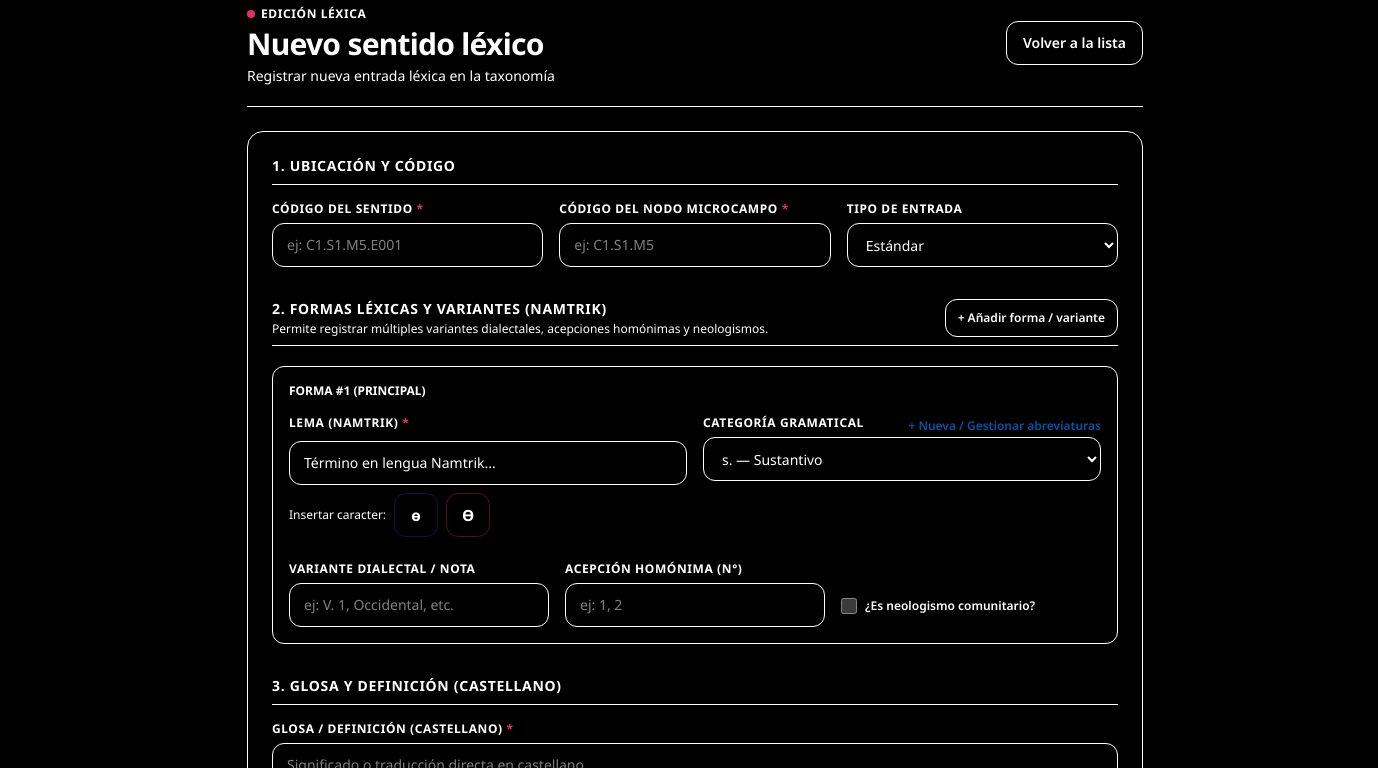
it: SentidoEditorPage (T-044, R-007, R-008, R-010, R-022) › en modo creación permite completar el formulario con CampoNamtrik y llama a useCreateSentido
The width and height of the screenshot is (1378, 768).
Expected: the heading "Nuevo sentido léxico" is shown, [247,26,555,62]
Type "C1.S1.M5.E001" into the field labelled "Código del sentido *" at (408, 245), box [272,223,543,267]
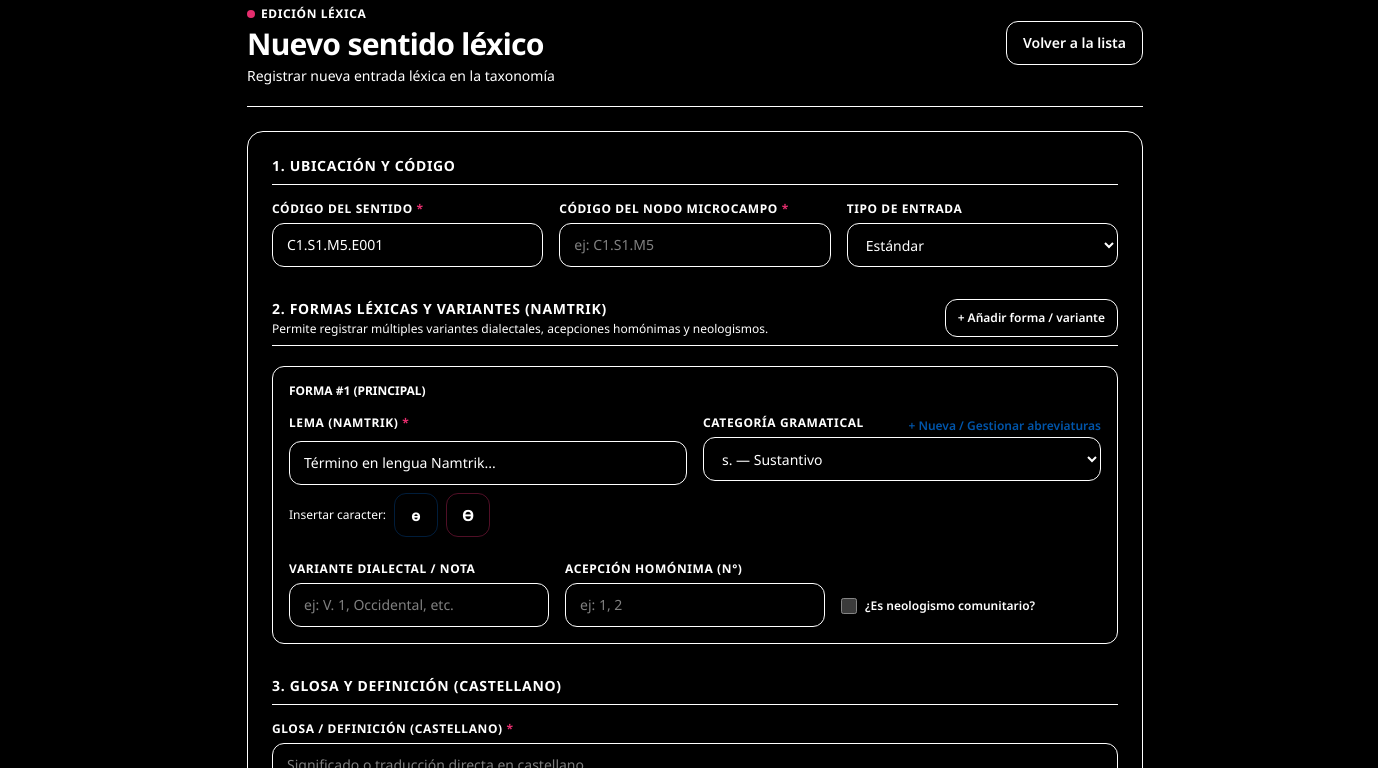
Type "C1.S1.M5" into the field labelled "Código del nodo microcampo *" at (695, 245), box [559,223,831,267]
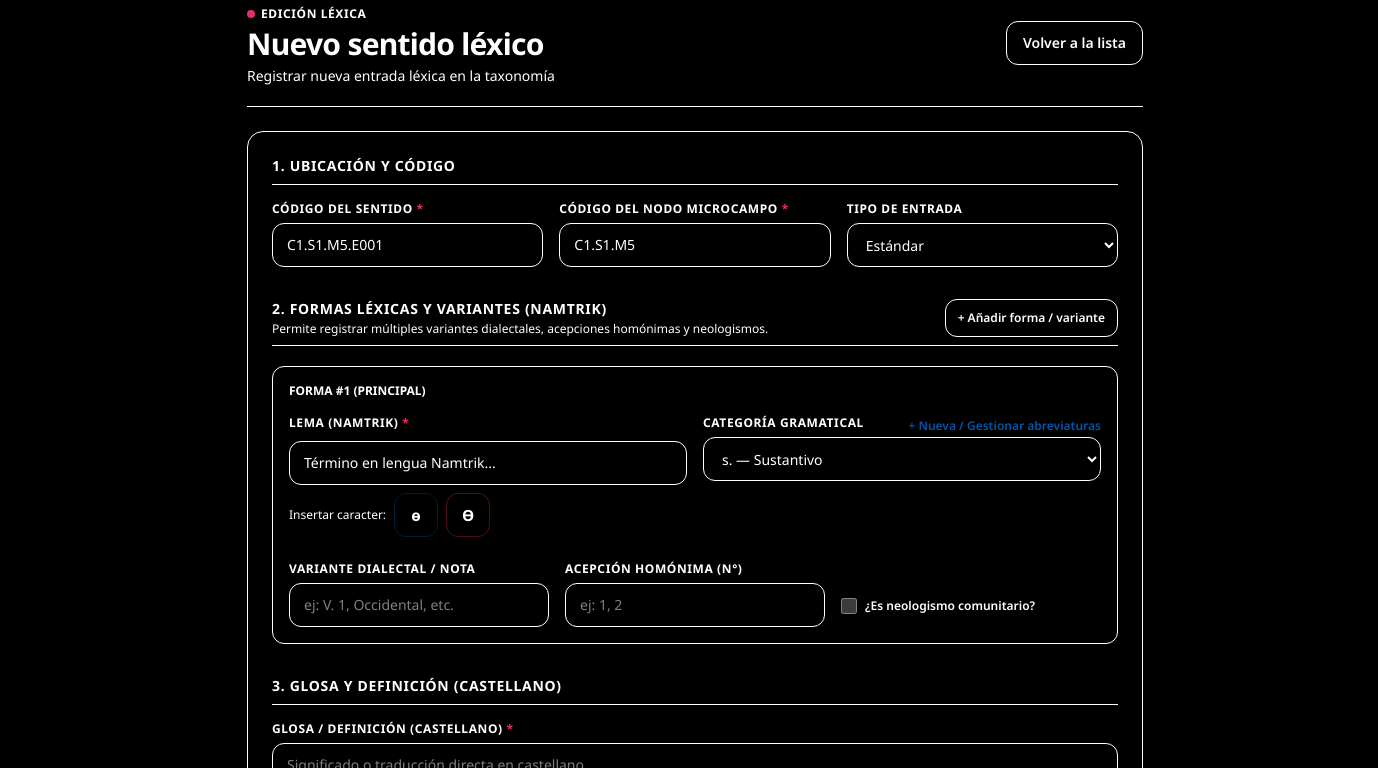
Type "kɵtɵ" into the field labelled "Lema (Namtrik) *" at (488, 463), box [289,441,687,485]
(page scrolled)
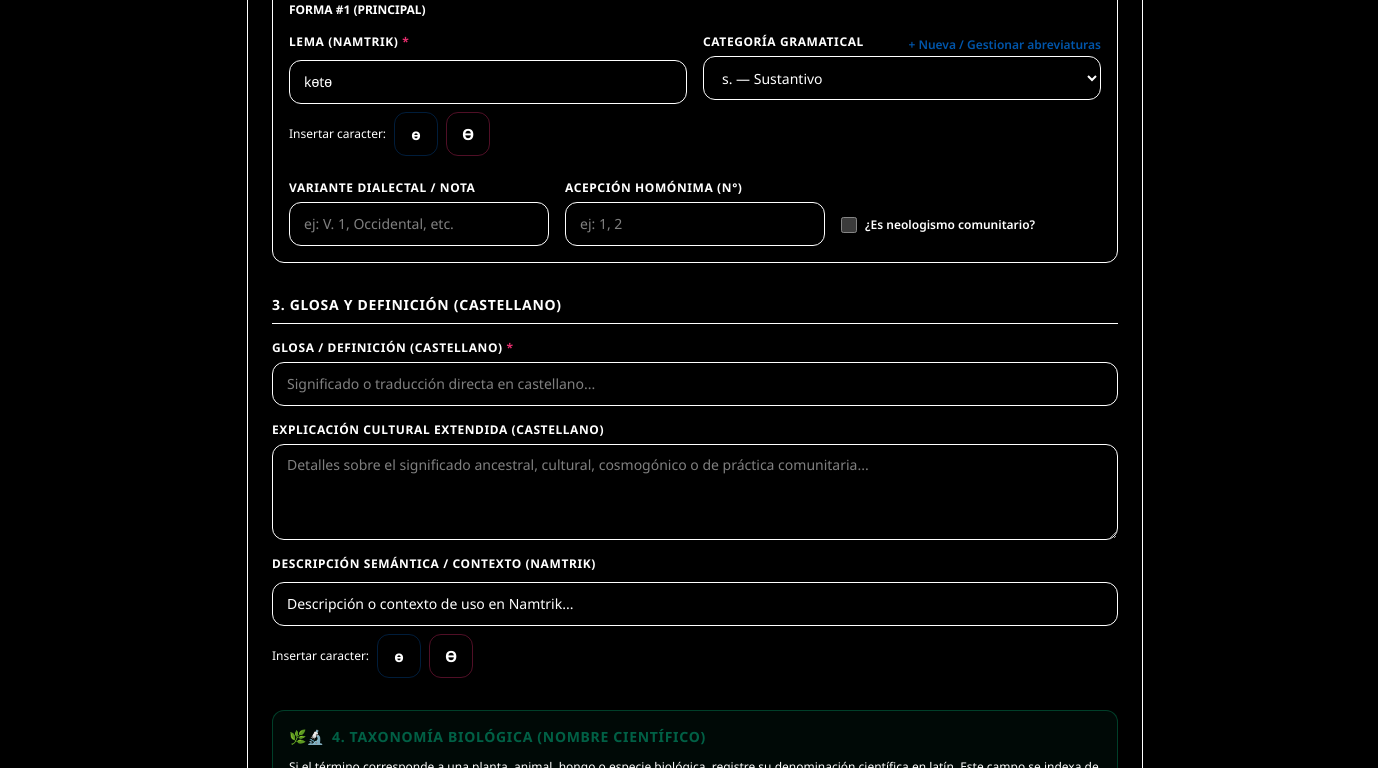
Type "casa tradicional" into the field labelled "Glosa / Definición (Castellano) *" at (695, 384), box [272,362,1118,406]
(page scrolled)
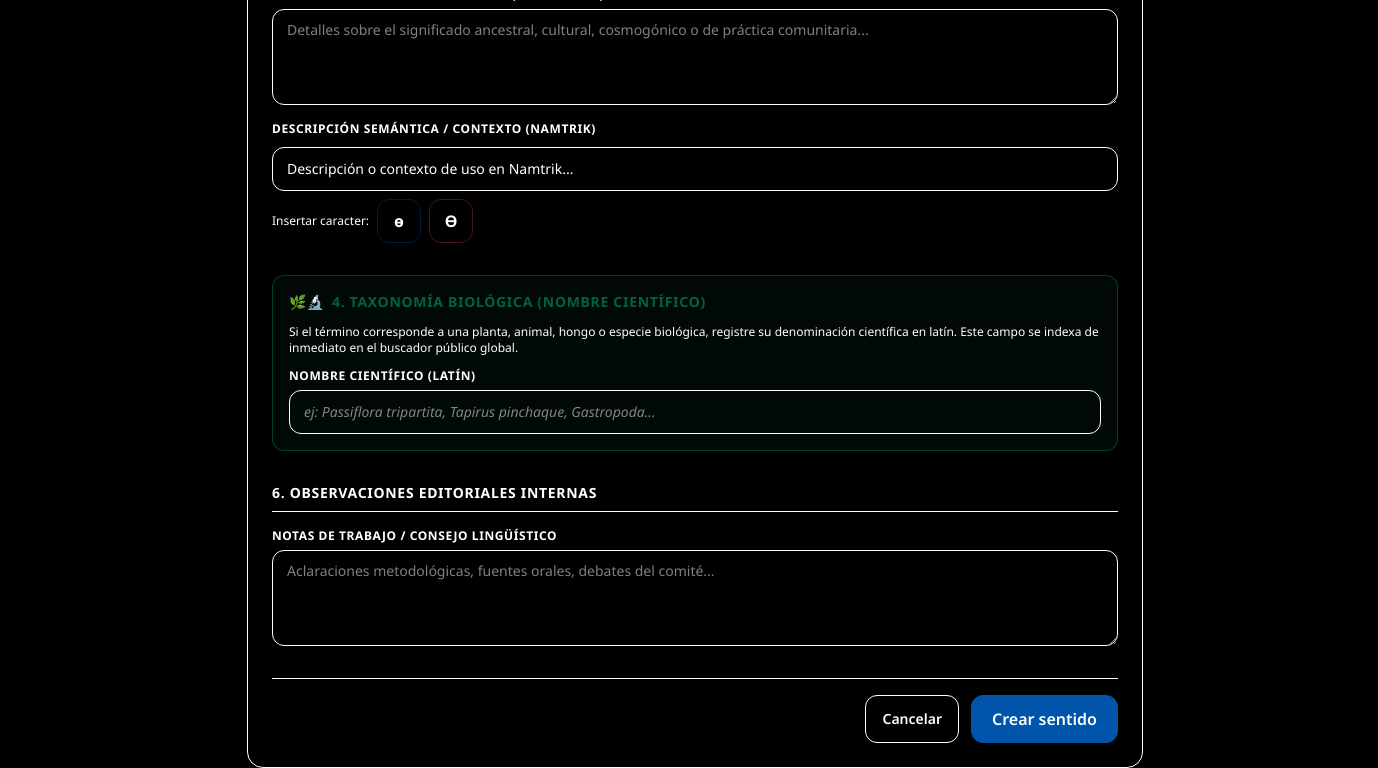
Click the button "Crear sentido" at (1044, 719), box [971,695,1118,743]
(page scrolled)
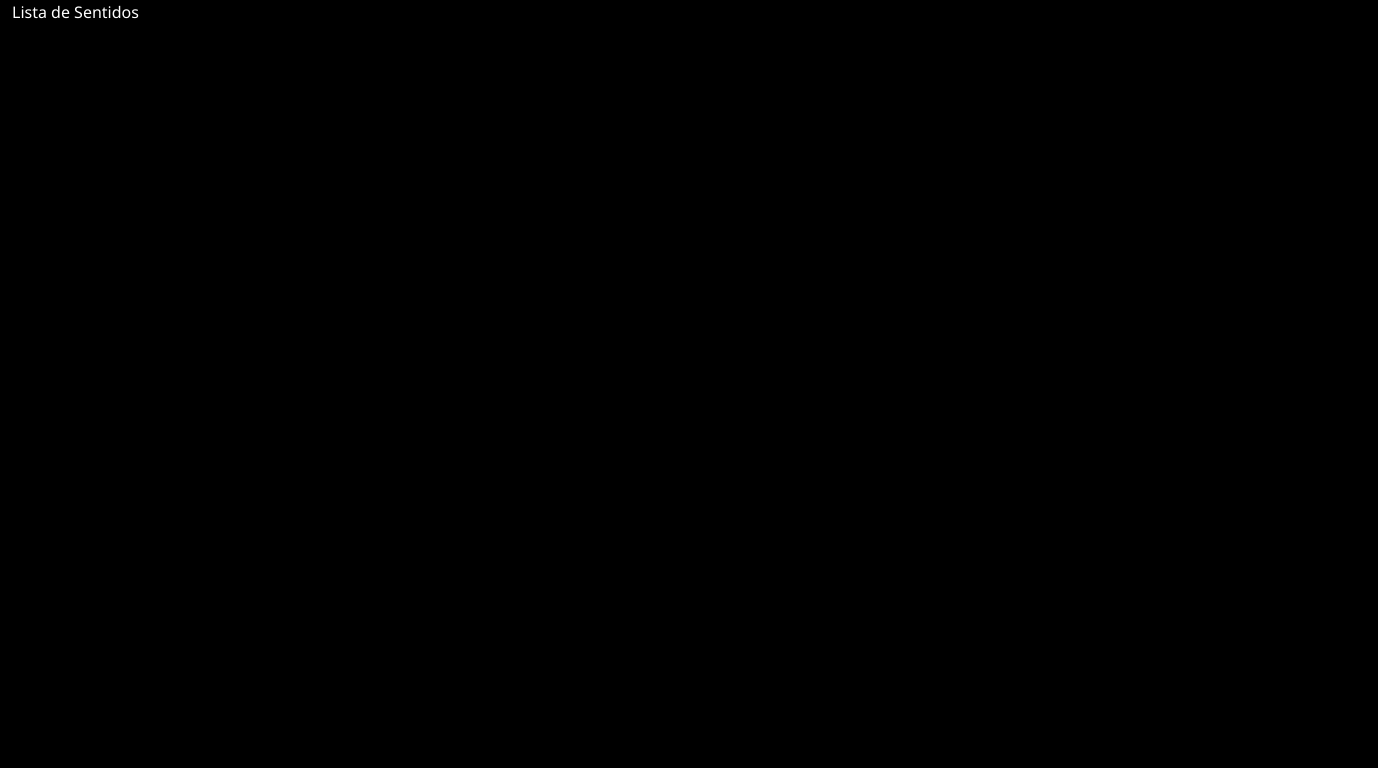
Expected: the text "Lista de Sentidos" is shown, [12,1,139,23]
